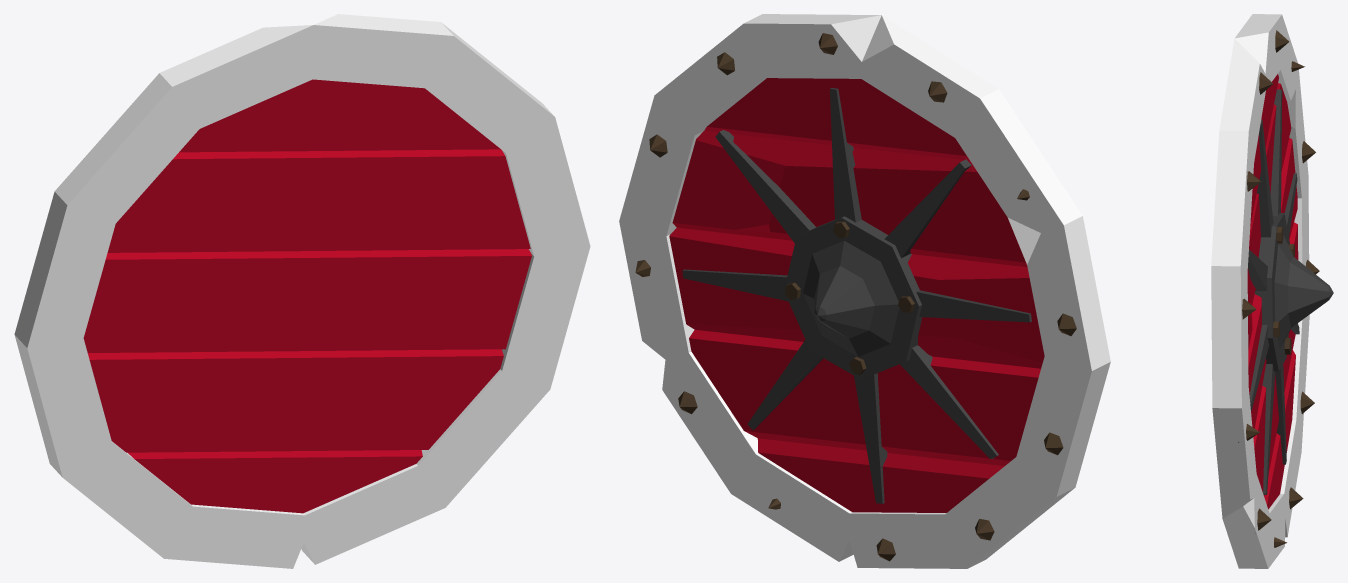
Rendered from Viking_M_Shield.fbx.
The picture shows the model from 3 angles, left to right: view 1: azimuth 30°, elevation 25°; view 2: azimuth 150°, elevation 25°; view 3: azimuth 270°, elevation 25°; orthographic projection. The views are drawn at different scales.
Parts seen in each view (by area): view 1: Viking_M_Shield; view 2: Viking_M_Shield; view 3: Viking_M_Shield.
Part boxes in pixels (x1=…): Viking_M_Shield: x1=14, y1=14, x2=590, y2=568; Viking_M_Shield: x1=619, y1=14, x2=1110, y2=568; Viking_M_Shield: x1=1211, y1=14, x2=1333, y2=568.
Bounding box in the file's own units: 54.64 × 54.36 × 19.12.
